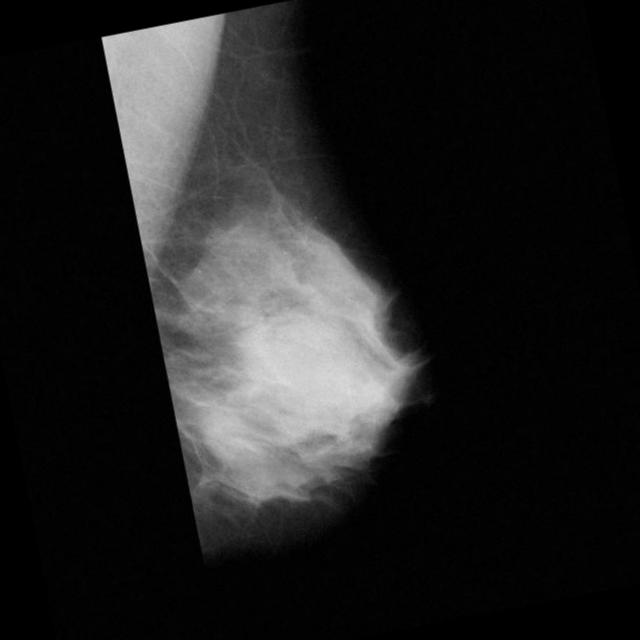CIRC: (172, 232, 461, 520)
